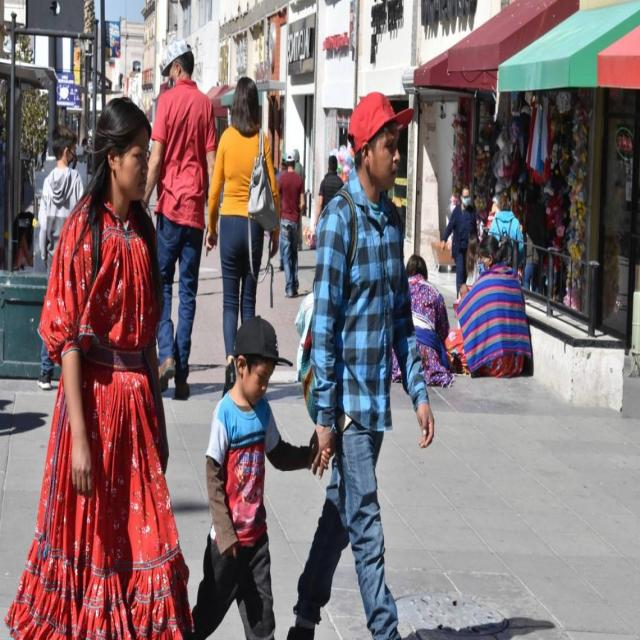adult: (8, 91, 195, 640), (291, 91, 434, 638), (148, 45, 217, 395), (207, 75, 275, 379), (448, 233, 529, 375), (390, 255, 450, 380), (439, 186, 477, 296), (277, 154, 305, 296)
child: (195, 313, 331, 640), (36, 123, 86, 389)
